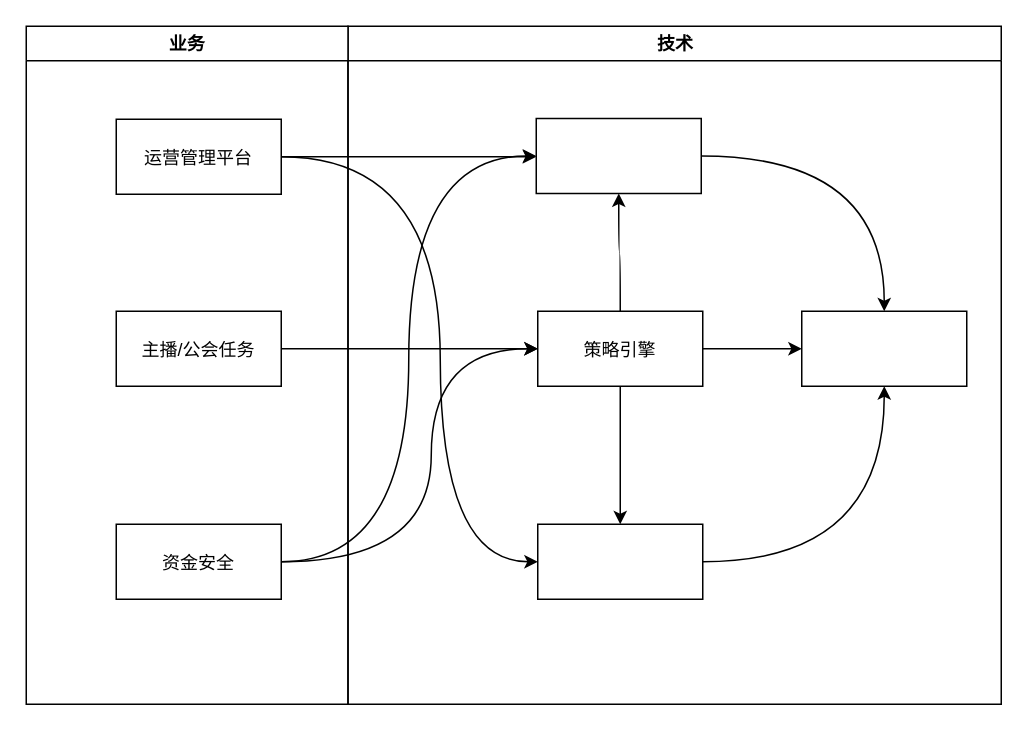
This 1028x731 diagram has some shape labels left out. Each missing label, with the centre of its shape:
圈人服务: point (619, 561)
规则引擎: point (883, 348)
资管系统: point (618, 155)
